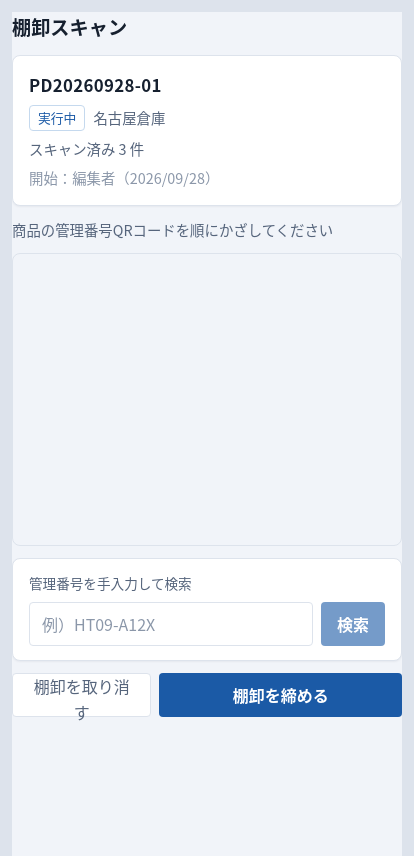
Test: stocktake session (M3-6) › records a scanned code via manual input and increments the count
In the field with id "stocktake-manual-input": (171, 624) [29,602,313,646], type " ht09-a1x "
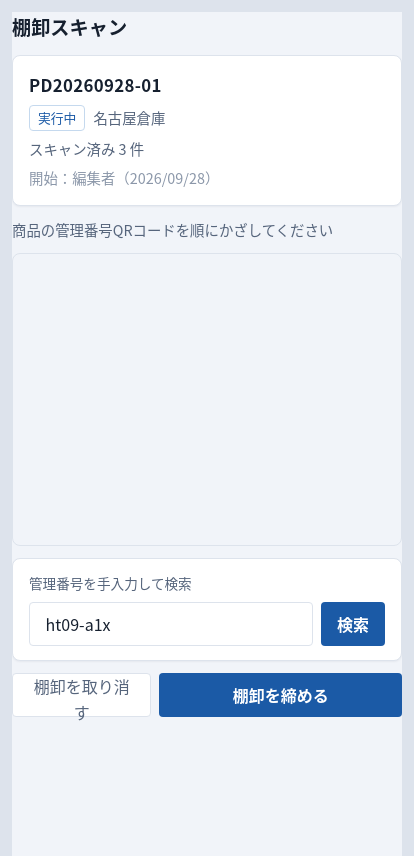
Submit the form with class "session-manual", box [12,558,402,662]
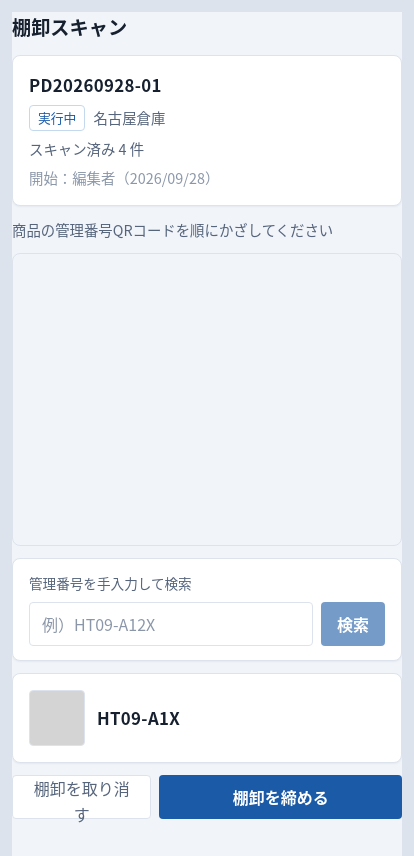
Result: the text "スキャン済み 4 件" is shown at [29,138,144,159]
Result: the text "HT09-A1X" is shown at [97,705,180,732]
